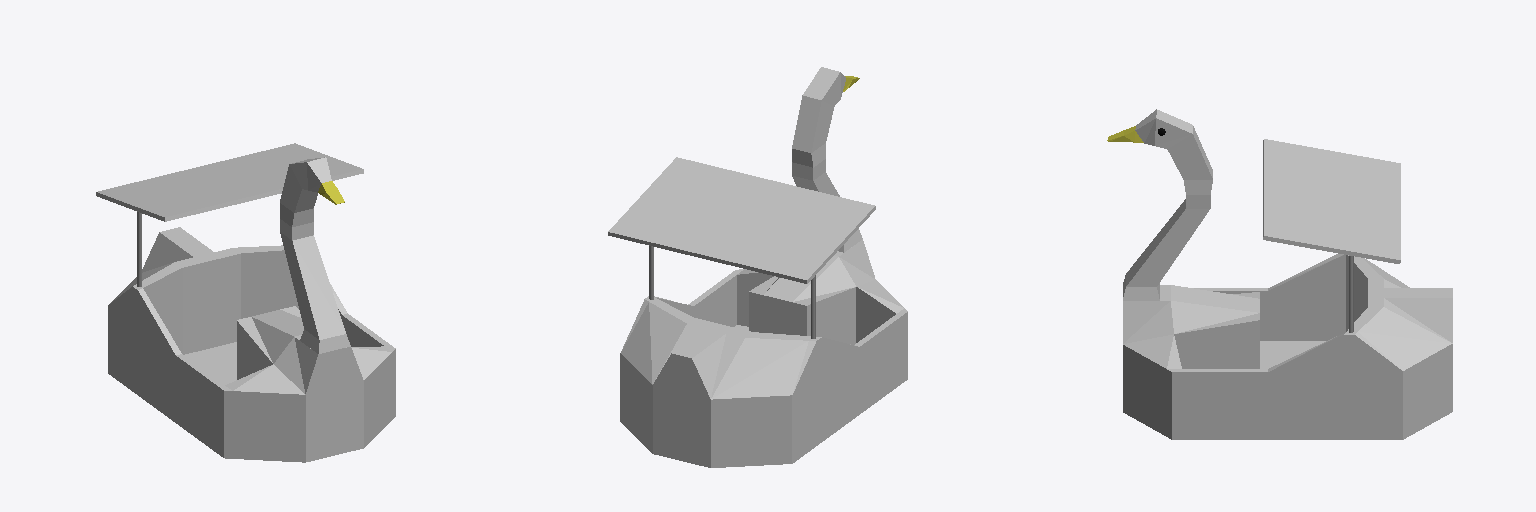
The model's file is swa.obj.
3 renders of one model, left to right at view 1: azimuth 30°, elevation 25°; view 2: azimuth 150°, elevation 25°; view 3: azimuth 270°, elevation 25°, orthographic.
Visible parts, largest first — view 1: Cube.1, Cube, Cube_1; view 2: Cube.1, Cube, Cube_1, Cylinder; view 3: Cube.1, Cube, Cube_1.
Boxes of the visible parts, x1=… form: Cube.1: x1=108, y1=227, x2=395, y2=462; Cube: x1=96, y1=143, x2=363, y2=221; Cube_1: x1=280, y1=157, x2=350, y2=353; Cube.1: x1=620, y1=239, x2=907, y2=467; Cube: x1=608, y1=157, x2=875, y2=283; Cube_1: x1=792, y1=67, x2=862, y2=252; Cylinder: x1=649, y1=246, x2=815, y2=338; Cube.1: x1=1123, y1=254, x2=1452, y2=439; Cube: x1=1263, y1=139, x2=1400, y2=263; Cube_1: x1=1107, y1=109, x2=1212, y2=300.
Size of the model in its own units: 46.72 by 63.7 by 70.18.